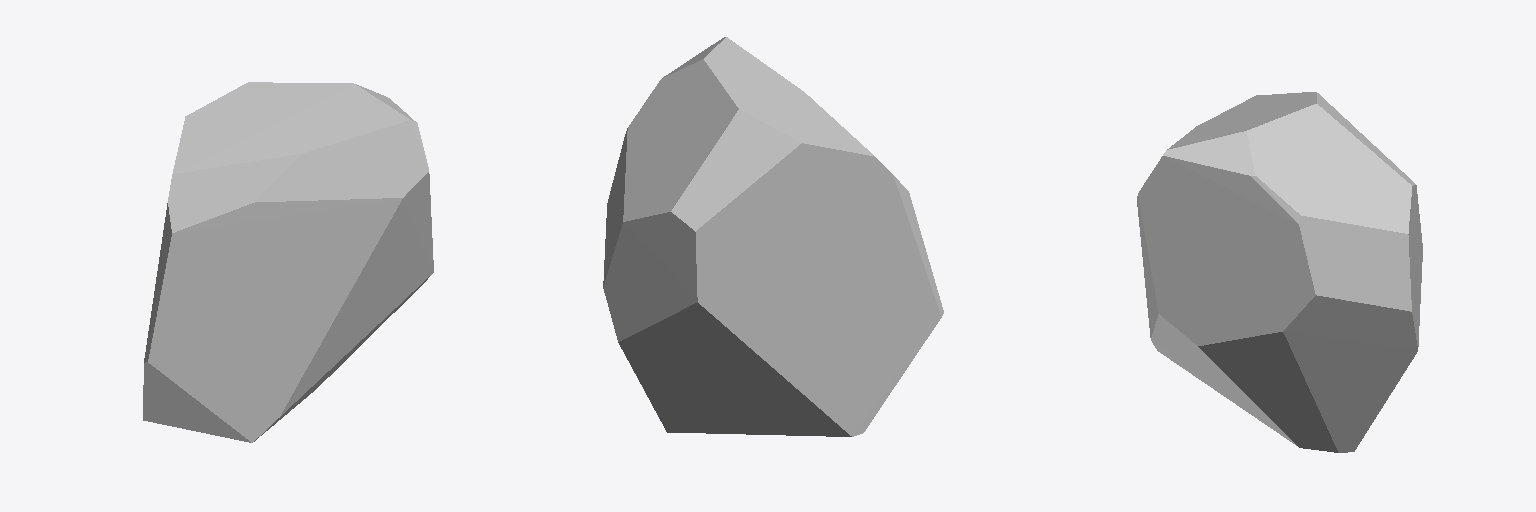
Rendered from Asteroids 2.obj.
3 views of the same model, side by side, from view 1: azimuth 30°, elevation 25°; view 2: azimuth 150°, elevation 25°; view 3: azimuth 270°, elevation 25° (orthographic).
Parts seen in each view (by area): view 1: Asteroid_3_Icosphere_cell.590; view 2: Asteroid_3_Icosphere_cell.590; view 3: Asteroid_3_Icosphere_cell.590.
Part boxes in pixels (bbox=[...]): Asteroid_3_Icosphere_cell.590: bbox=[143, 82, 433, 442]; Asteroid_3_Icosphere_cell.590: bbox=[603, 37, 943, 436]; Asteroid_3_Icosphere_cell.590: bbox=[1137, 92, 1422, 452].
Bounding box in the file's own units: 14.87 × 16.41 × 12.9.